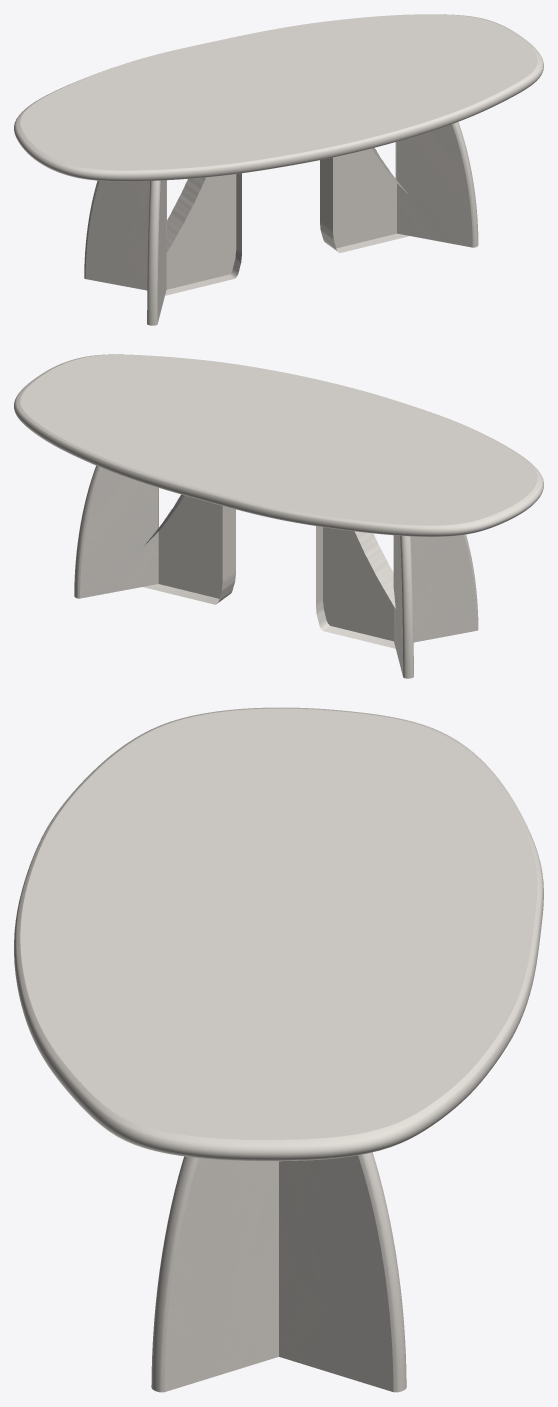
The model's file is pearlwhite_danish_round_plane.glb.
3 views of the same model, one above another, from view 1: azimuth 30°, elevation 25°; view 2: azimuth 150°, elevation 25°; view 3: azimuth 270°, elevation 25° (orthographic). The views are drawn at different scales.
Parts seen in each view (by area): view 1: round_danish, plane_singleright2, plane_single1, plane_single2, plane_singleleft1, plane_singleright1; view 2: round_danish, plane_singleleft2, plane_single1, plane_single2, plane_singleright1, plane_singleleft1; view 3: round_danish, plane_singleleft2, plane_singleright2.
Boxes of the visible parts, box(x1,y1,x2,y2) form: round_danish: box(14, 14, 543, 181); plane_singleright2: box(395, 122, 478, 247); plane_single1: box(165, 173, 241, 295); plane_single2: box(320, 147, 409, 252); plane_singleleft1: box(84, 180, 166, 290); plane_singleright1: box(147, 180, 166, 325); round_danish: box(14, 354, 543, 536); plane_singleleft2: box(74, 465, 158, 598); plane_single1: box(316, 526, 395, 648); plane_single2: box(143, 494, 235, 604); plane_singleright1: box(393, 534, 478, 642); plane_singleleft1: box(394, 535, 413, 678); round_danish: box(14, 707, 543, 1161); plane_singleleft2: box(279, 1152, 406, 1392); plane_singleright2: box(151, 1156, 278, 1392).
Size of the model in its own units: 7.5 by 2.5 by 3.8.
1 material, 1 textured.
